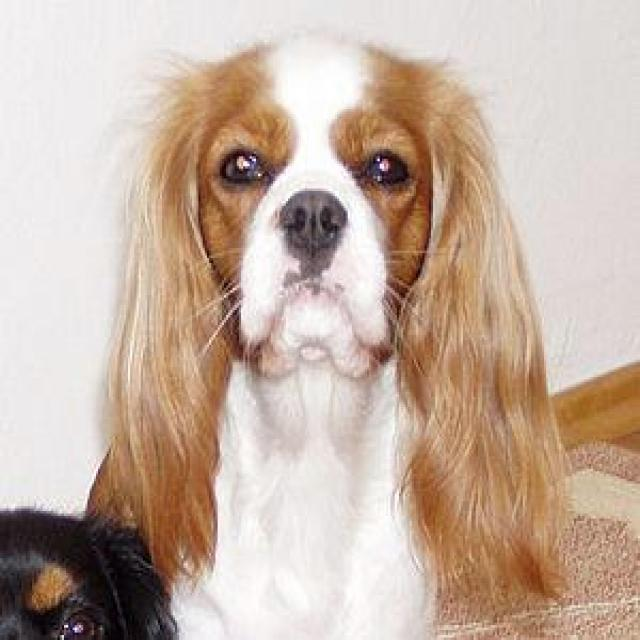blenheim_spaniel: (88, 32, 578, 635)
